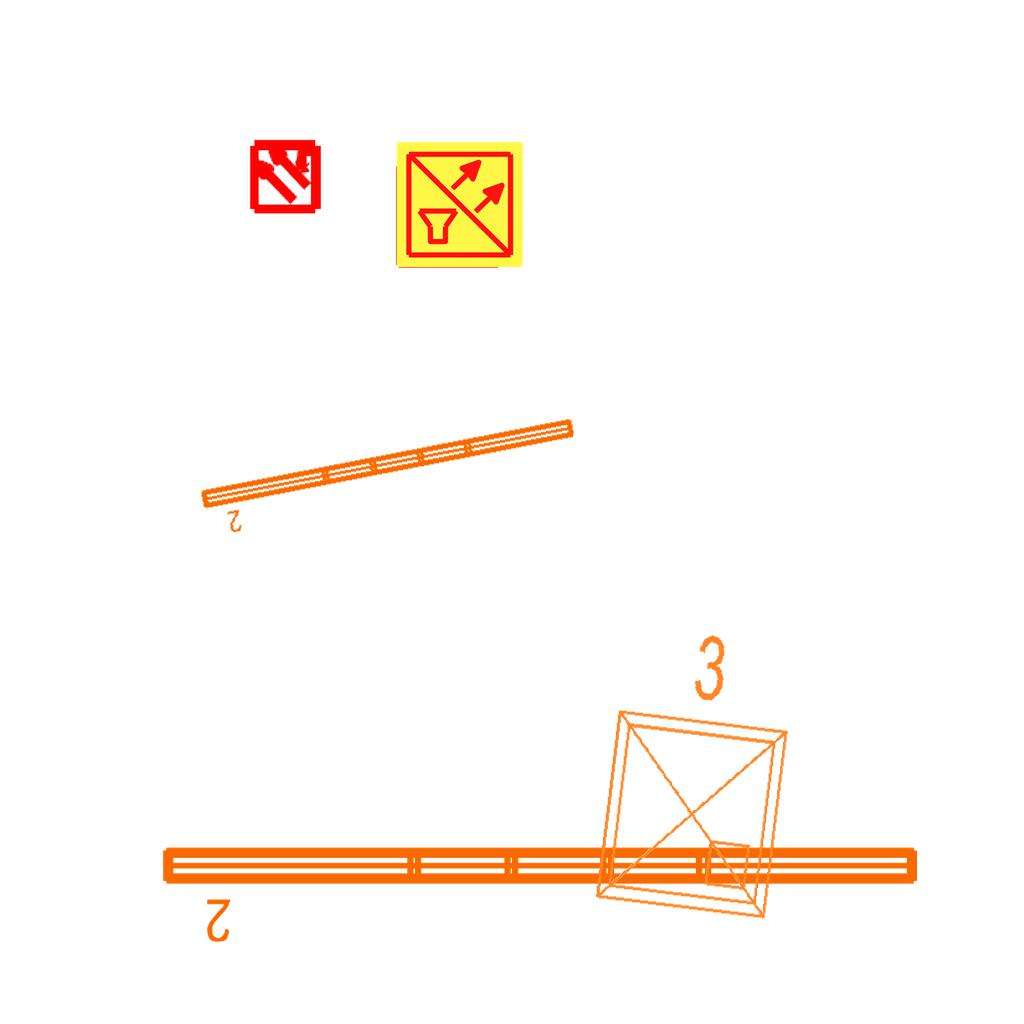Ambulanz_Pendelleuchte_LED: (154, 835, 928, 947), (195, 411, 586, 541)
Einbaudownlights_LED_Konferenzraeume: (571, 611, 815, 935)
OKW_Multisensormelder_(Kombination_optischer_Rauch-Kahlenmonoxid_Waerme-Melder): (394, 139, 526, 271)
OT_Multisensormelder_(Kombination_RMO_WMD): (229, 118, 342, 231)
